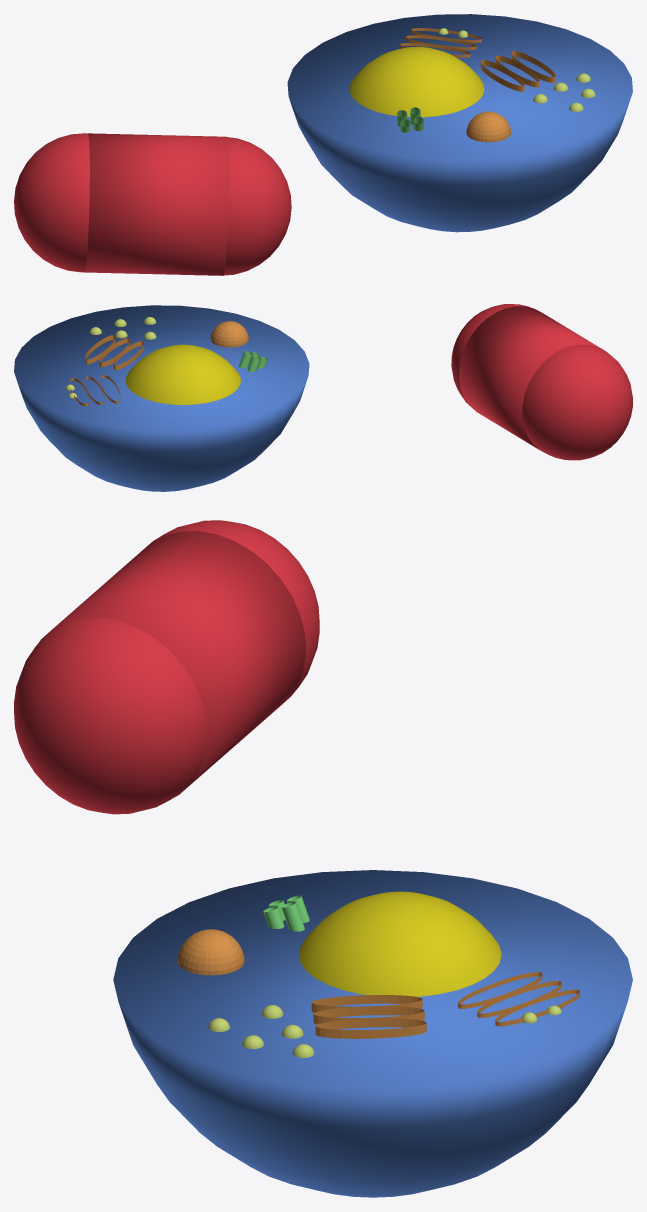
Rendered from bacterium.fbx.
3 views of the same model, one above another, from view 1: azimuth 30°, elevation 25°; view 2: azimuth 150°, elevation 25°; view 3: azimuth 270°, elevation 25° (orthographic). The views are drawn at different scales.
Visible parts, largest first — view 1: Sphere, Cylinder.003, Sphere.013, Sphere.001, Sphere.012, Cylinder.001, Sphere.007, Cylinder.002, Cylinder; view 2: Sphere, Sphere.013, Cylinder.003, Sphere.001, Sphere.012, Cylinder.001, Sphere.007, Cylinder, Cylinder.002; view 3: Sphere, Sphere.012, Cylinder.003, Sphere.001, Cylinder.001, Sphere.013, Sphere.007, Cylinder.002, Cylinder.
Boxes of the visible parts, x1,y1,x2,y2 form: Sphere: (287, 14, 632, 232); Cylinder.003: (84, 133, 228, 275); Sphere.013: (14, 133, 89, 272); Sphere.001: (349, 46, 484, 117); Sphere.012: (223, 137, 291, 275); Cylinder.001: (480, 51, 555, 91); Sphere.007: (466, 111, 511, 142); Cylinder.002: (400, 28, 481, 57); Cylinder: (397, 107, 423, 132); Sphere: (14, 305, 309, 491); Sphere.013: (522, 344, 632, 460); Cylinder.003: (459, 306, 604, 449); Sphere.001: (125, 344, 240, 404); Sphere.012: (451, 304, 530, 405); Cylinder.001: (85, 335, 143, 370); Sphere.007: (210, 321, 248, 347); Cylinder: (239, 351, 267, 371); Cylinder.002: (69, 375, 120, 406); Sphere: (113, 870, 632, 1197); Sphere.012: (14, 617, 207, 814); Cylinder.003: (39, 531, 305, 796); Sphere.001: (298, 891, 501, 996); Cylinder.001: (311, 995, 426, 1038); Sphere.013: (152, 520, 319, 697); Sphere.007: (177, 929, 244, 975); Cylinder.002: (458, 972, 579, 1026); Cylinder: (263, 895, 309, 931).
Bounding box in the file's own units: 418 × 137 × 234.
